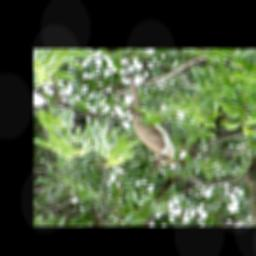Cuckoo: (125, 68, 182, 167)
